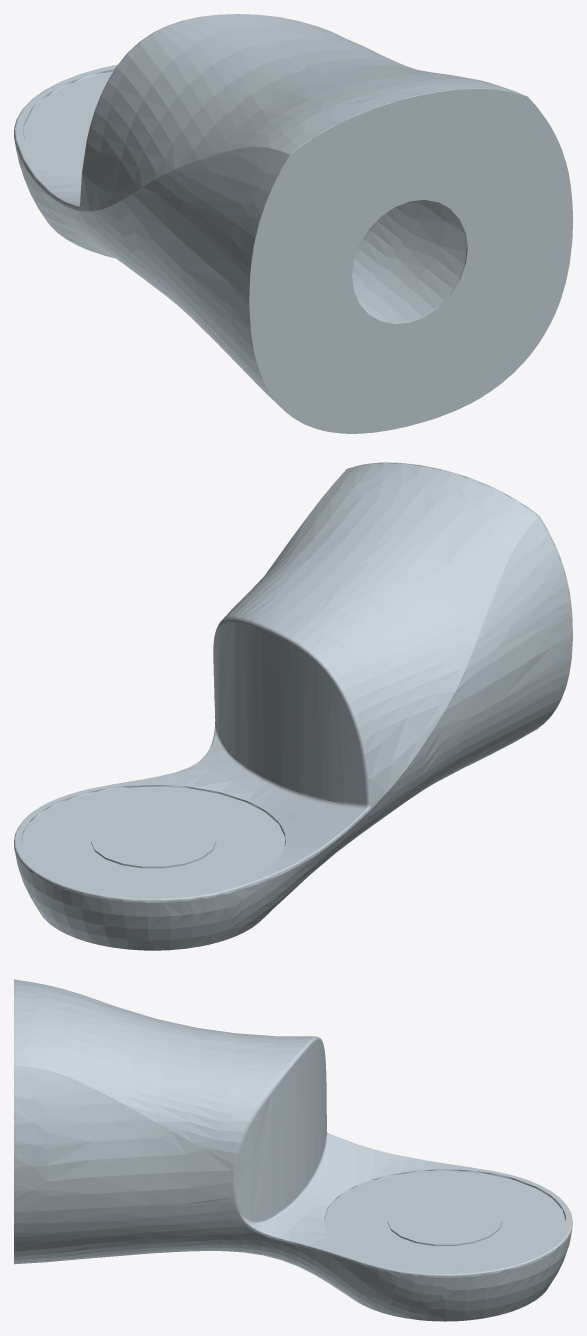
File: right_shoulder_yaw_link.dae
3 views of the same model, one above another, from view 1: azimuth 30°, elevation 25°; view 2: azimuth 150°, elevation 25°; view 3: azimuth 270°, elevation 25° (orthographic). The views are drawn at different scales.
Visible parts, largest first — view 1: right_shoulder_yaw_link; view 2: right_shoulder_yaw_link; view 3: right_shoulder_yaw_link.
Part boxes in pixels (left/top/right/bottom): right_shoulder_yaw_link: left=14, top=14, right=572, bottom=433; right_shoulder_yaw_link: left=14, top=462, right=572, bottom=950; right_shoulder_yaw_link: left=14, top=979, right=572, bottom=1321.
Size of the model in its own units: 0.0942 by 0.0805 by 0.1631.
